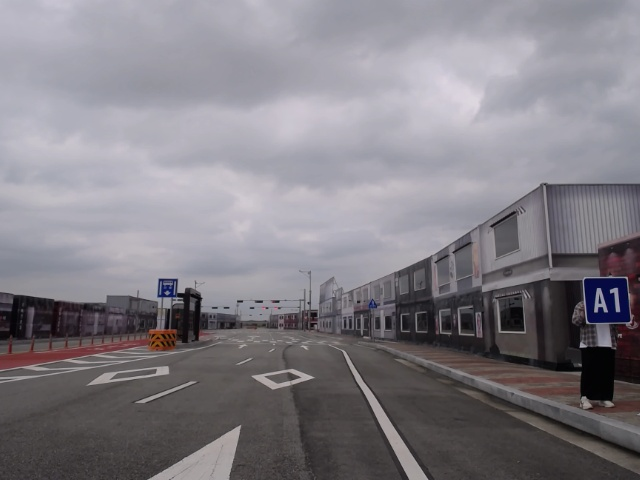delivery_a1: (583, 277, 631, 324)
